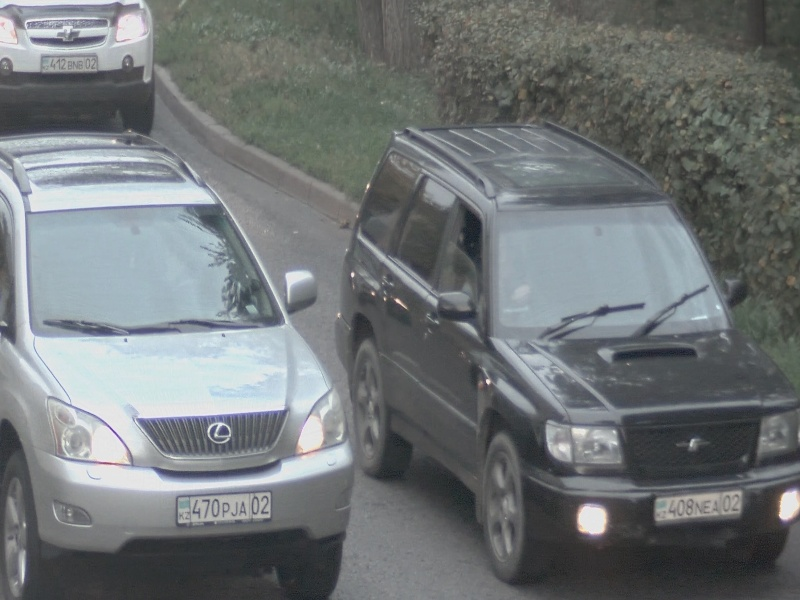plate: (173, 488, 275, 531), (652, 488, 746, 532), (38, 50, 99, 75)
